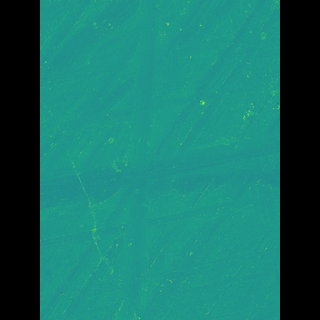Loch: (69, 132, 250, 206), (128, 0, 162, 320)
